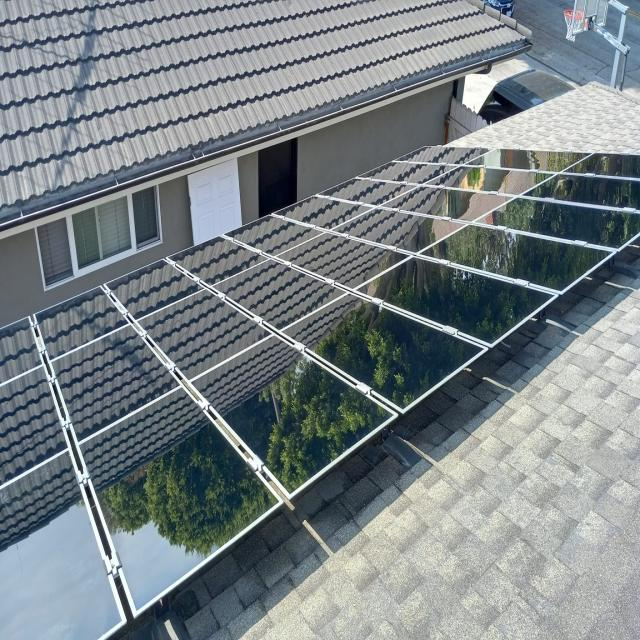clean-solar-panel: (505, 149, 529, 169)
